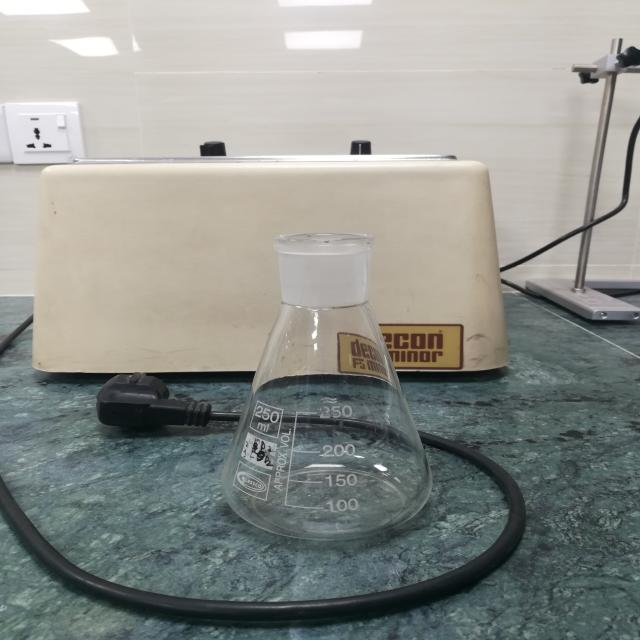Conical_Flask: (213, 189, 468, 560)
